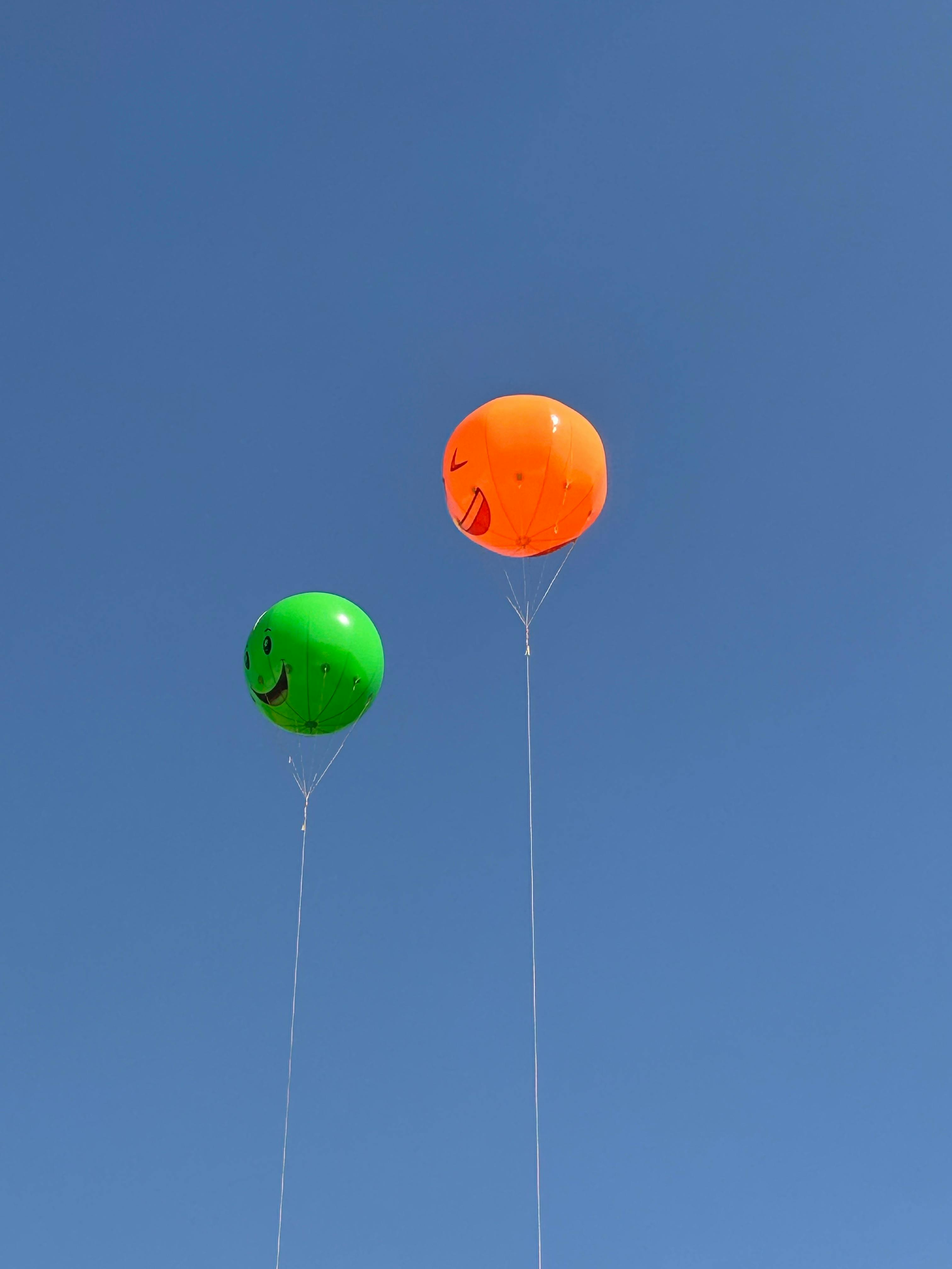balloon: (443, 395, 607, 558), (244, 593, 384, 736)
